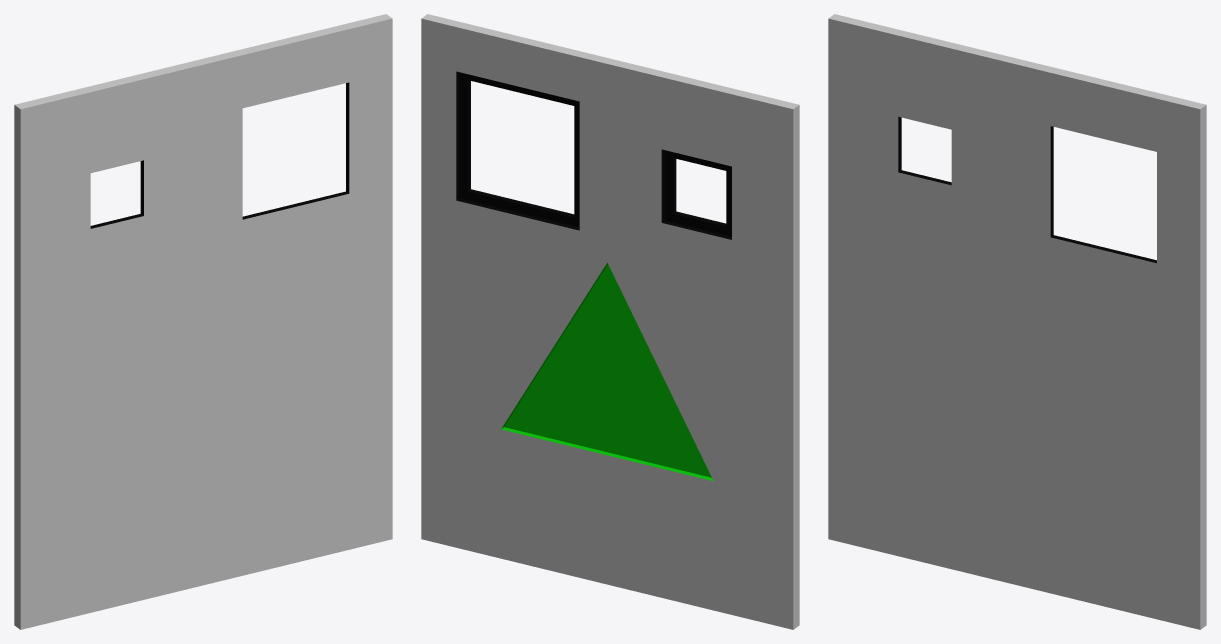
The model's file is green_triangle.dae.
3 renders of one model, left to right at view 1: azimuth 30°, elevation 25°; view 2: azimuth 150°, elevation 25°; view 3: azimuth 330°, elevation 25°, orthographic.
Parts seen in each view (by area): view 1: ShapeIndexedFaceSet_001; view 2: ShapeIndexedFaceSet_001; view 3: ShapeIndexedFaceSet_001.
Part boxes in pixels (x1,y1,x2,y2): ShapeIndexedFaceSet_001: [14, 14, 392, 629]; ShapeIndexedFaceSet_001: [421, 14, 799, 629]; ShapeIndexedFaceSet_001: [828, 14, 1206, 629].
Bounding box in the file's own units: 1.75 × 0.0508 × 2.34.
